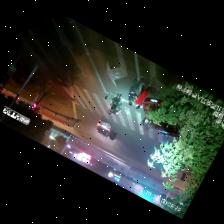person: (129, 76, 144, 105), (136, 82, 151, 108), (109, 100, 123, 113), (111, 93, 121, 108)
